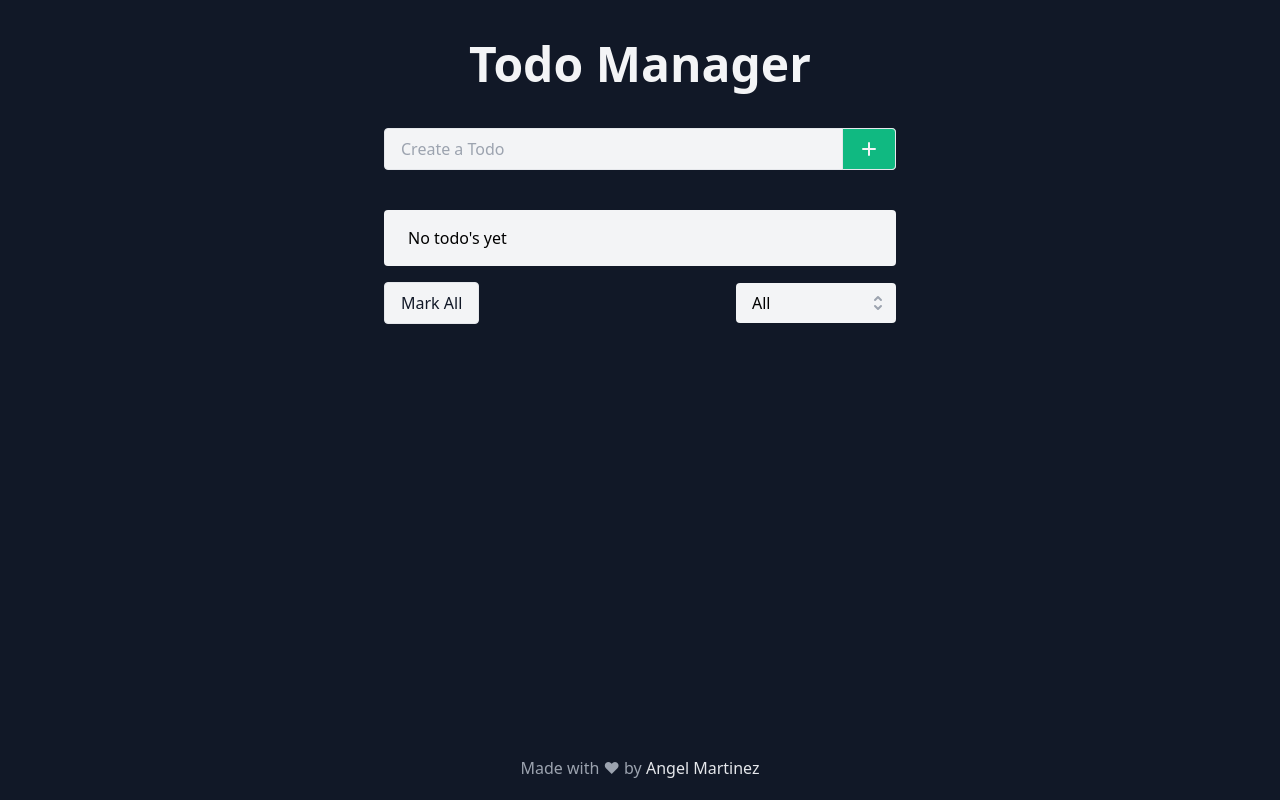
Test: App › should be able to create multiples to-do's
In the field with placeholder "Create a Todo": (640, 149) [384,128,896,170], type "Go to Grocery Store"
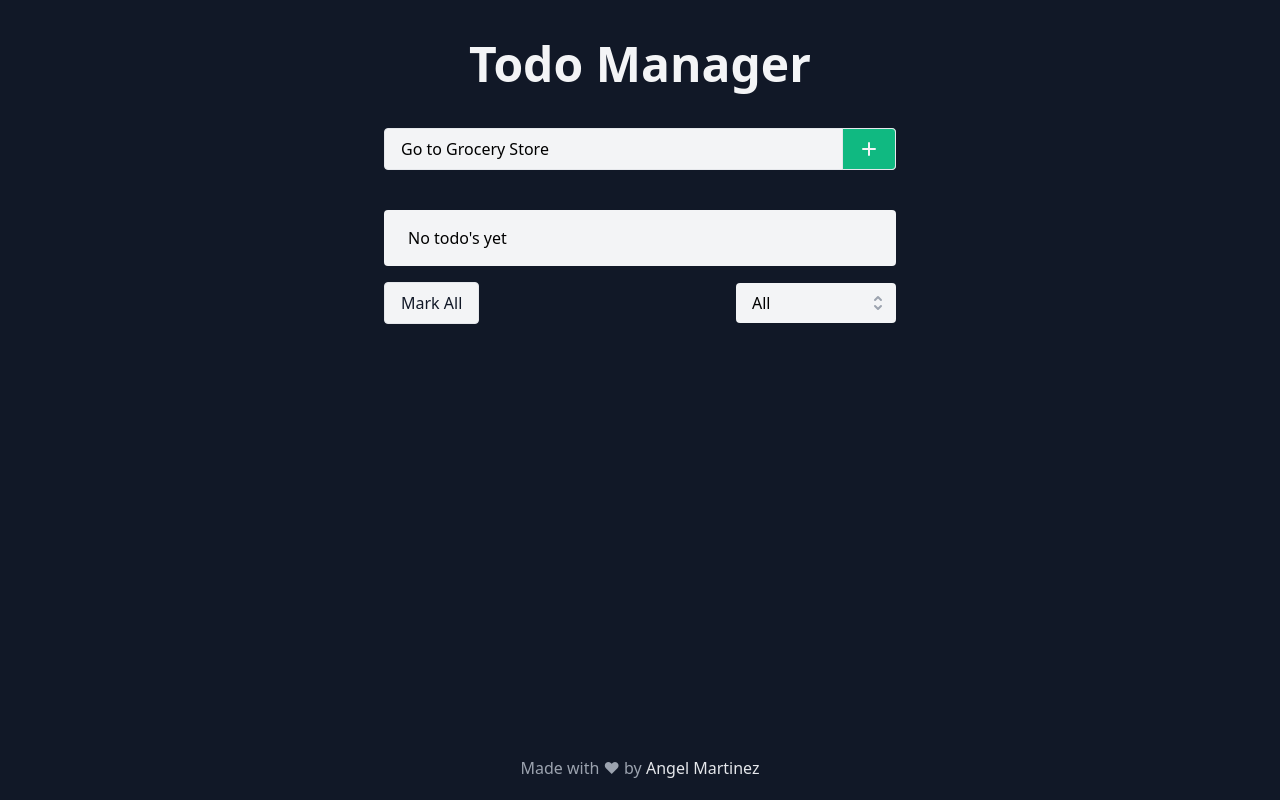
Click the button named "create": click(869, 149) [842,128,896,170]
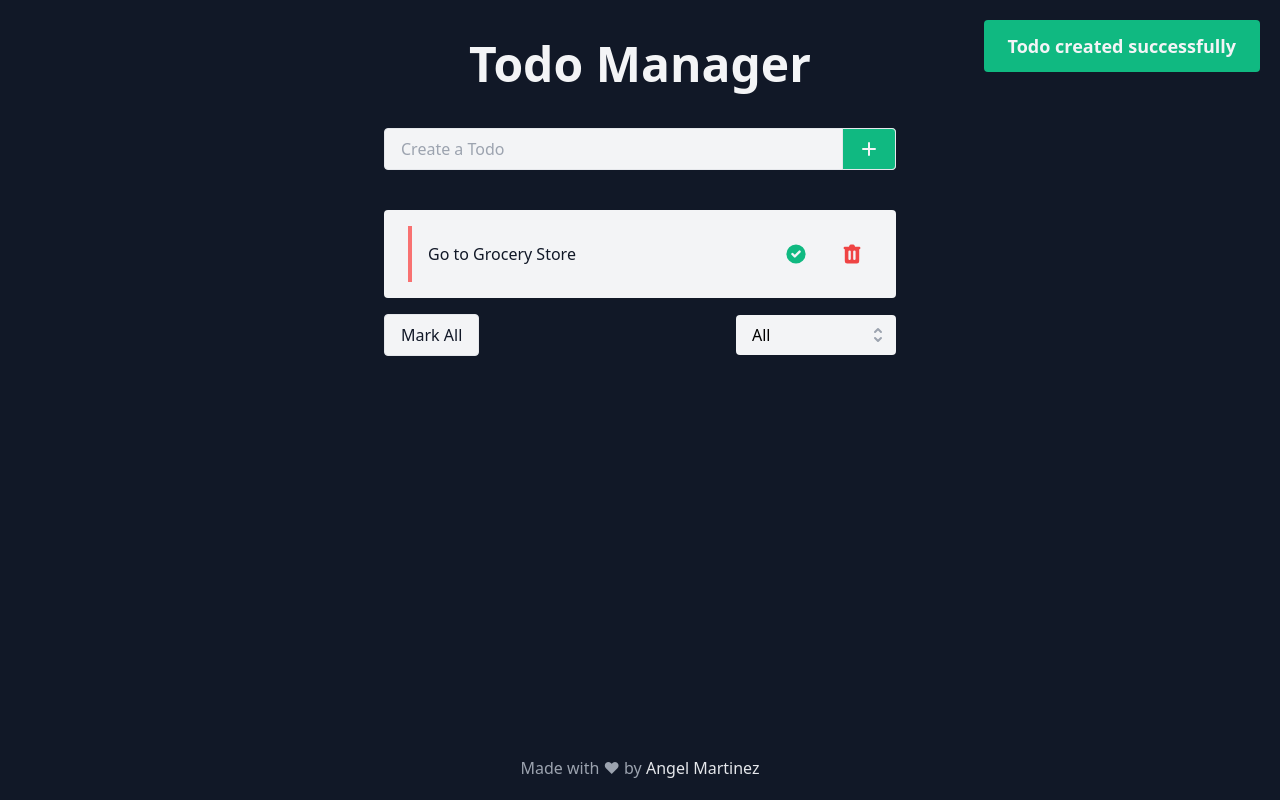
In the field with placeholder "Create a Todo": (640, 149) [384,128,896,170], type "Buy a Xbox Series X"
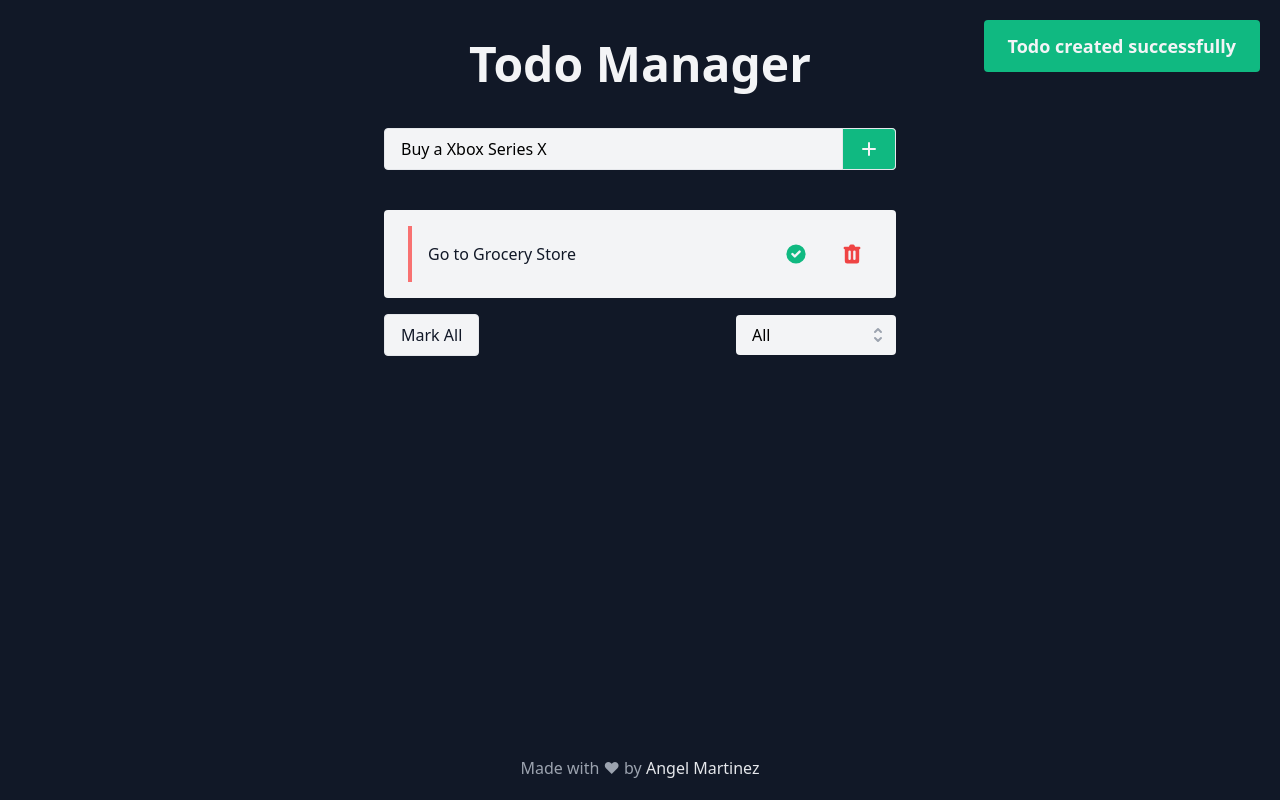
Click the button named "create": click(869, 149) [842,128,896,170]
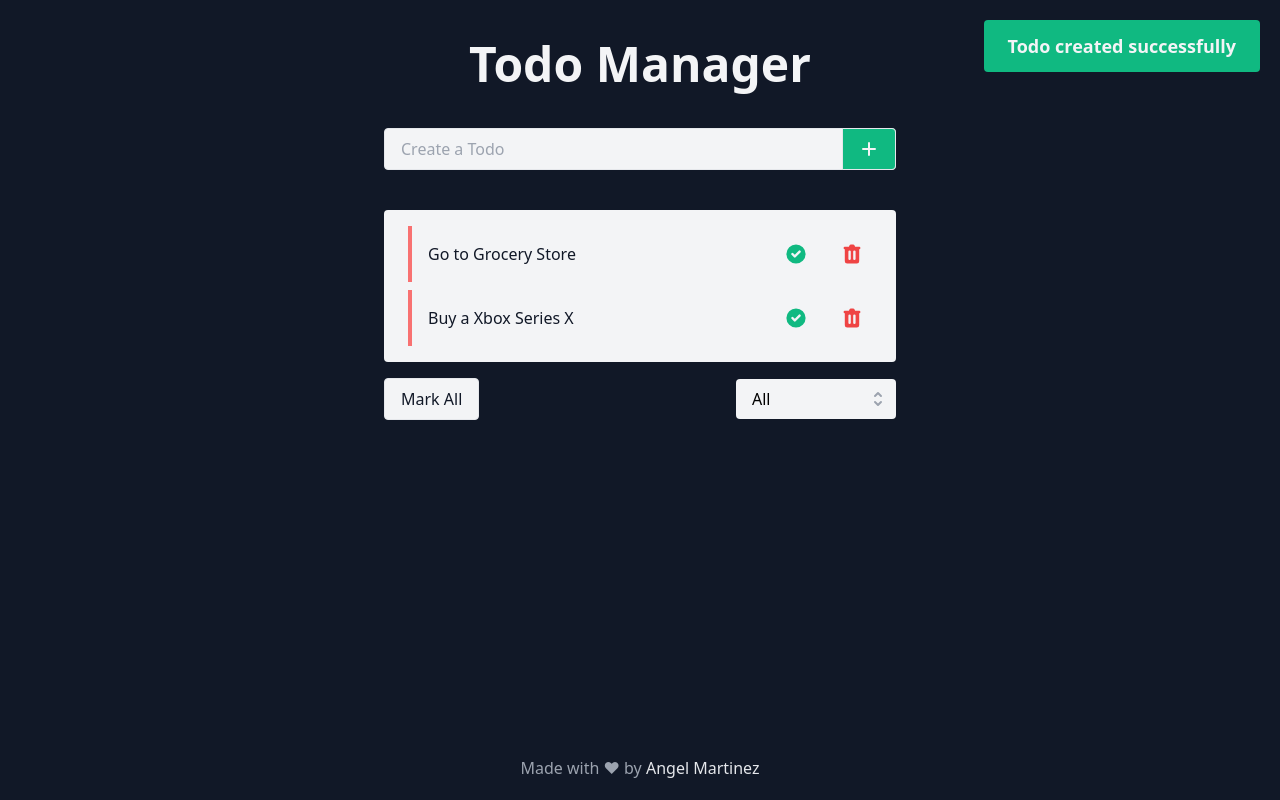
In the field with placeholder "Create a Todo": (640, 149) [384,128,896,170], type "Pet my dog"
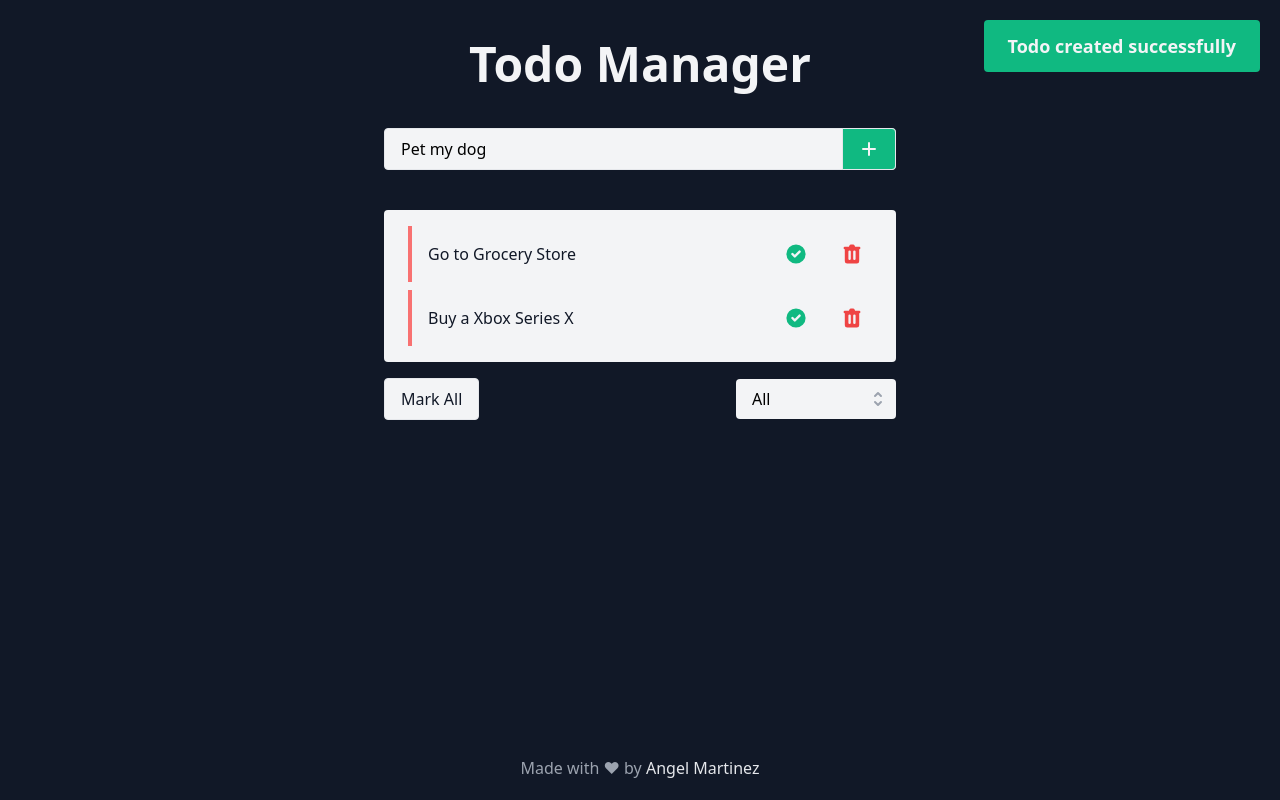
Click the button named "create": click(869, 149) [842,128,896,170]
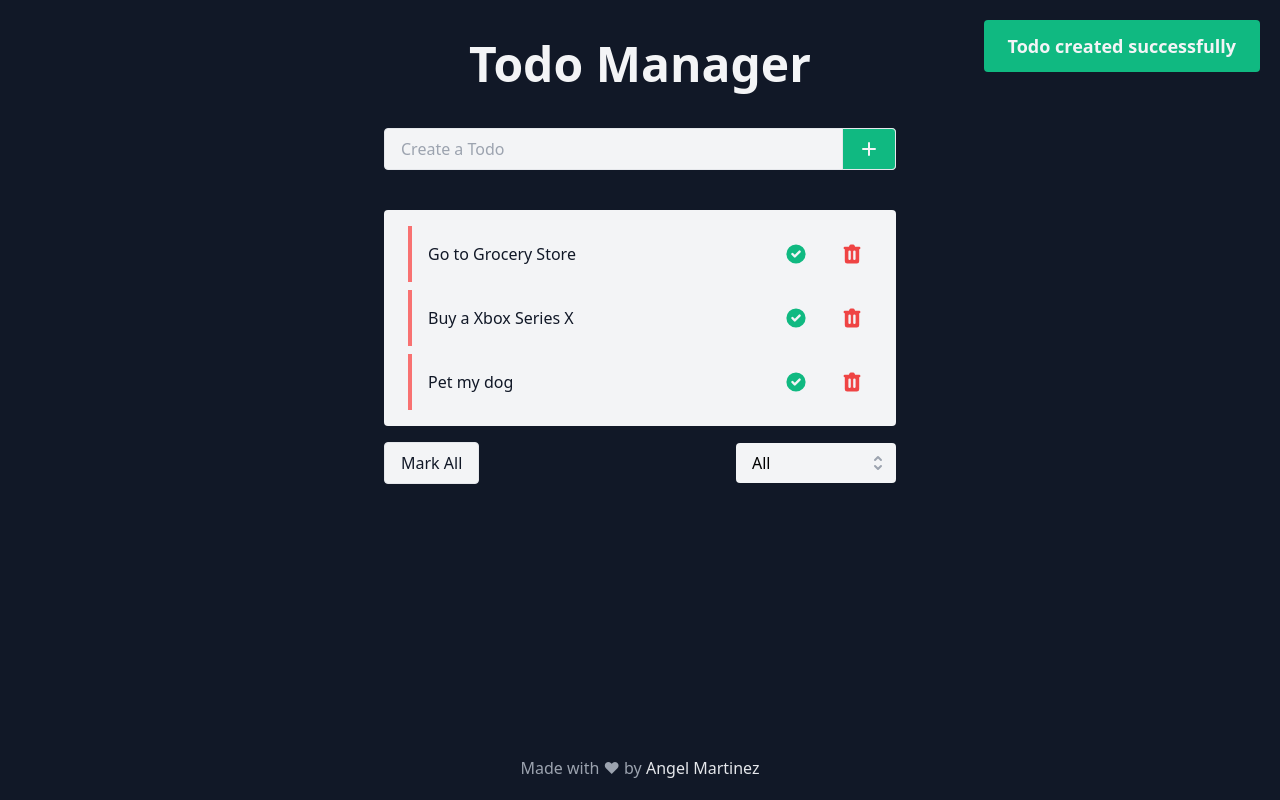
Check: the number of list items named "to-do" is 3, box [408,226,872,282]; [408,290,872,346]; [408,354,872,410]
